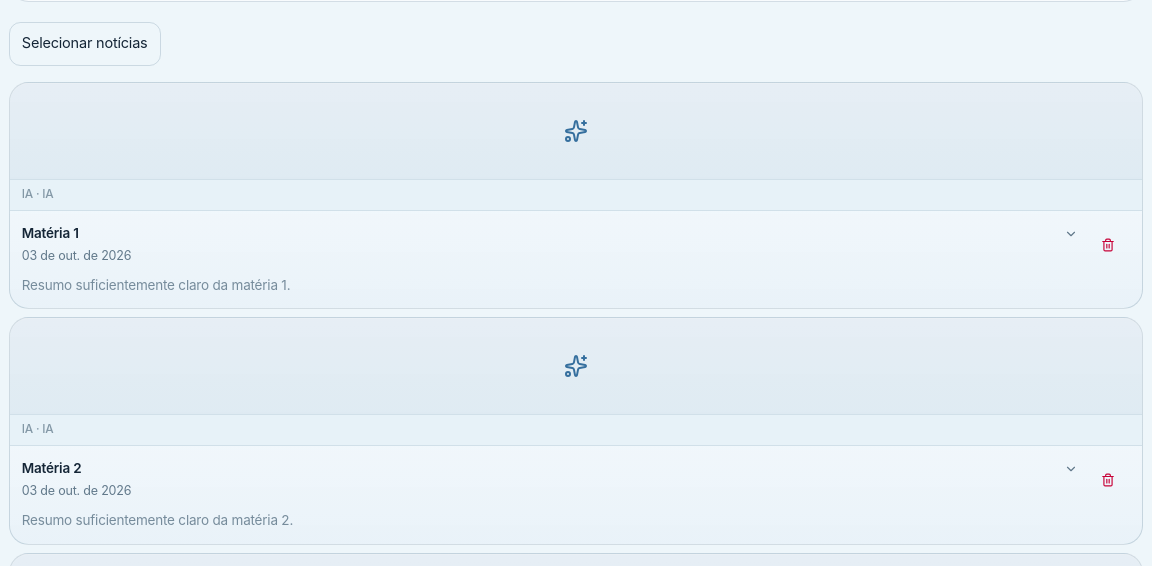
Descobrir IA › expande pelo título no painel, limita resumo e não expande ao selecionar ou apagar
Click the button "Matéria 1 03 de out. de 2026".
click(50, 233)  # box [22,222,1078,266]
(page scrolled)
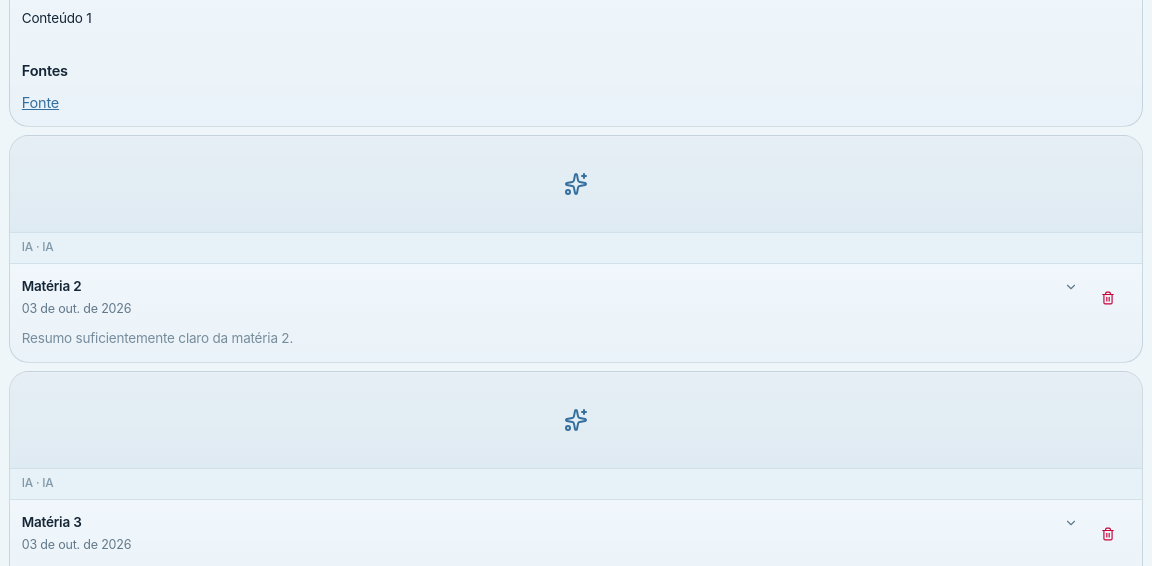
Click the button "Matéria 2 03 de out. de 2026".
click(52, 286)  # box [22,276,1078,320]
(page scrolled)
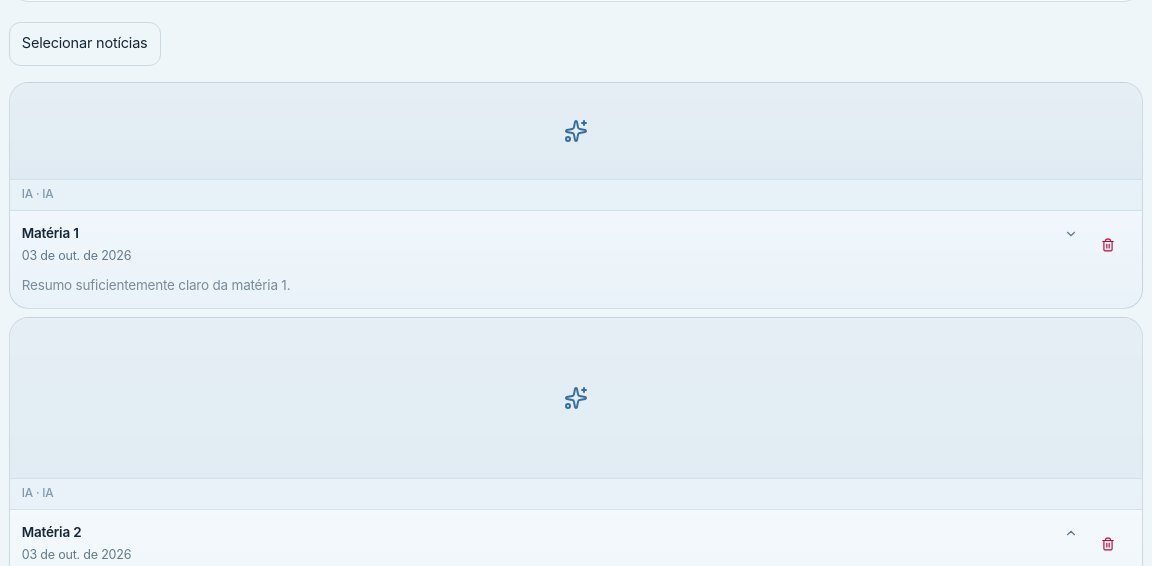
Now the button "Matéria 1 03 de out. de 2026" is collapsed, box [22,222,1078,266]
Click the button "Selecionar notícias".
click(85, 44)  # box [9,22,161,66]
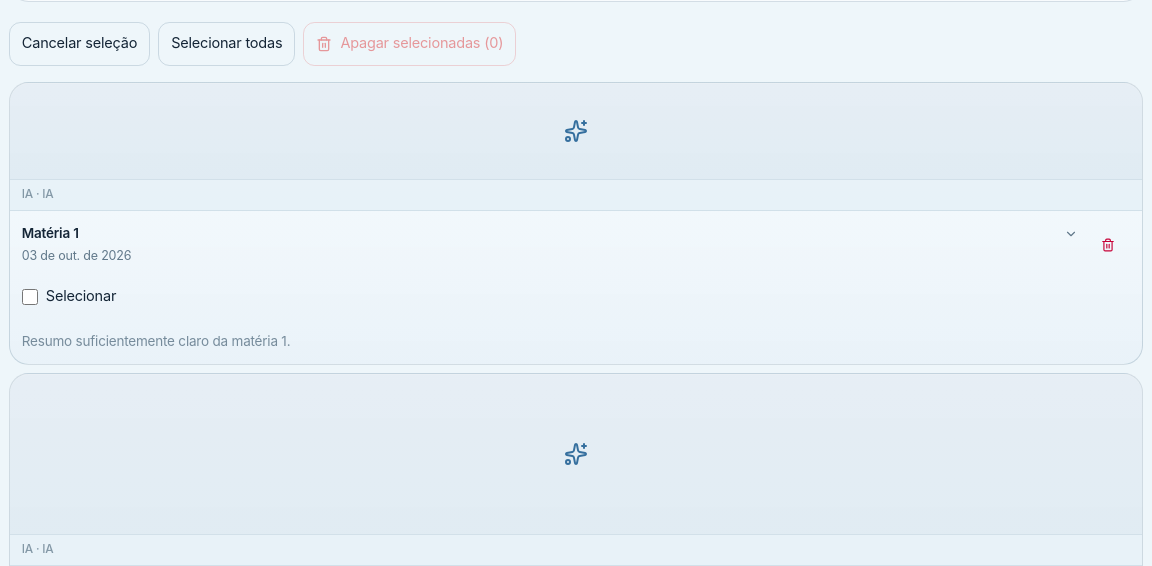
Click the checkbox labelled "Selecionar".
click(30, 296)  # box [22,288,38,304]
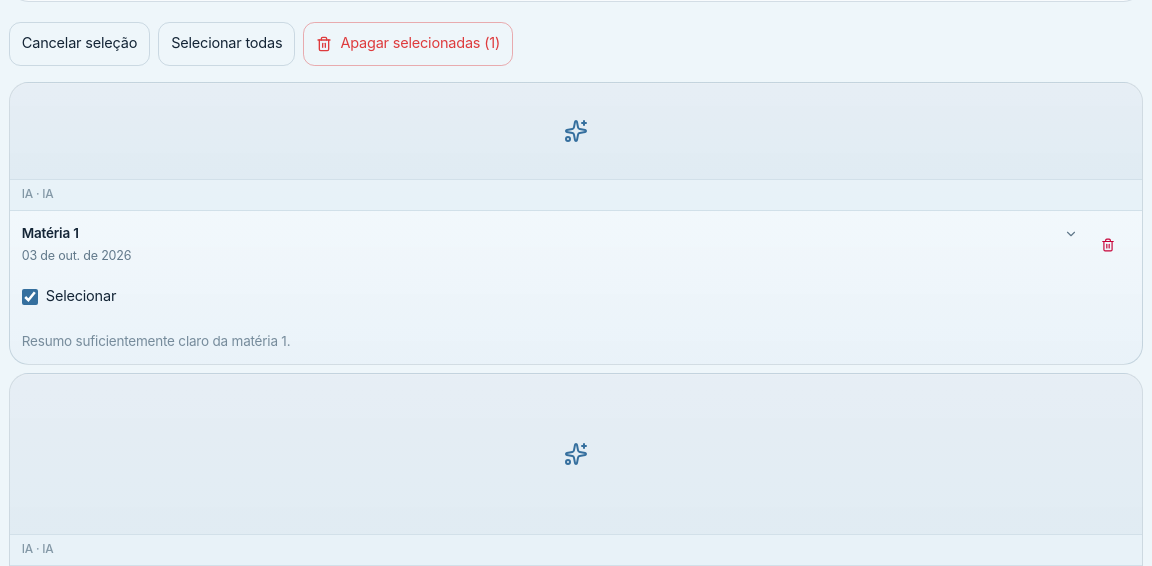
Now the button "Matéria 1 03 de out. de 2026" is collapsed, box [22,222,1078,266]
Click the button named "Apagar notícia: Matéria 1".
click(1108, 244)  # box [1086,222,1130,266]
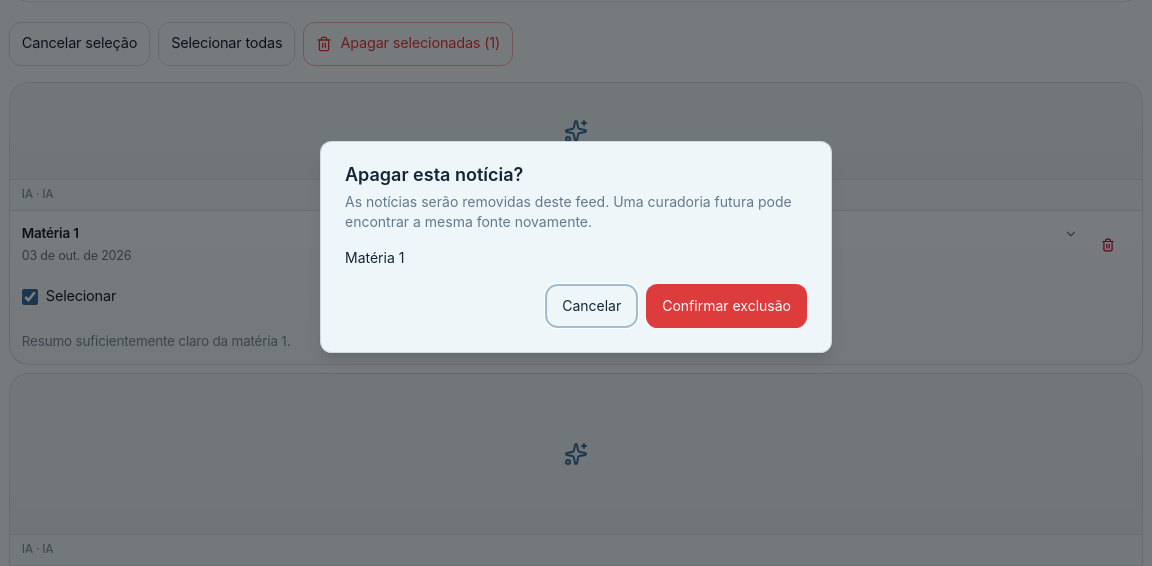
Now the button "Matéria 1 03 de out. de 2026" is collapsed, box [22,222,1078,266]
Now the dialog shows "Matéria 1", box [345,249,404,266]
